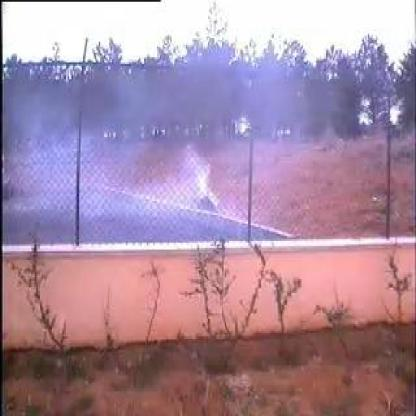-: (17, 105, 220, 240)
